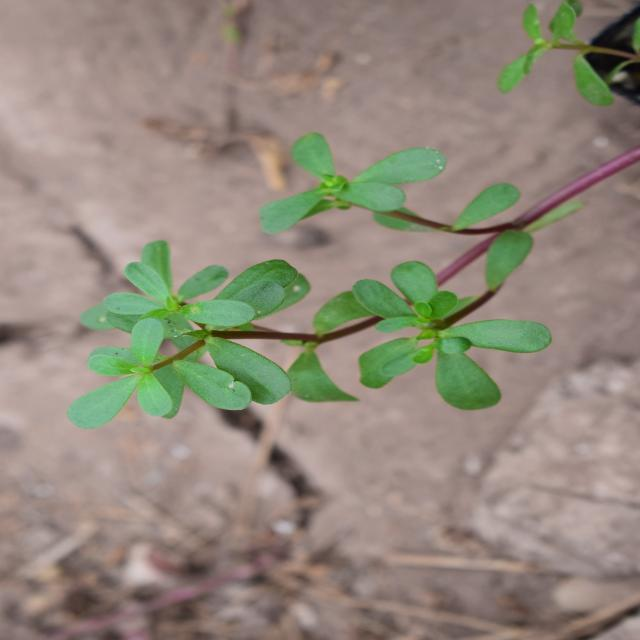purslane: (203, 60, 506, 557)
